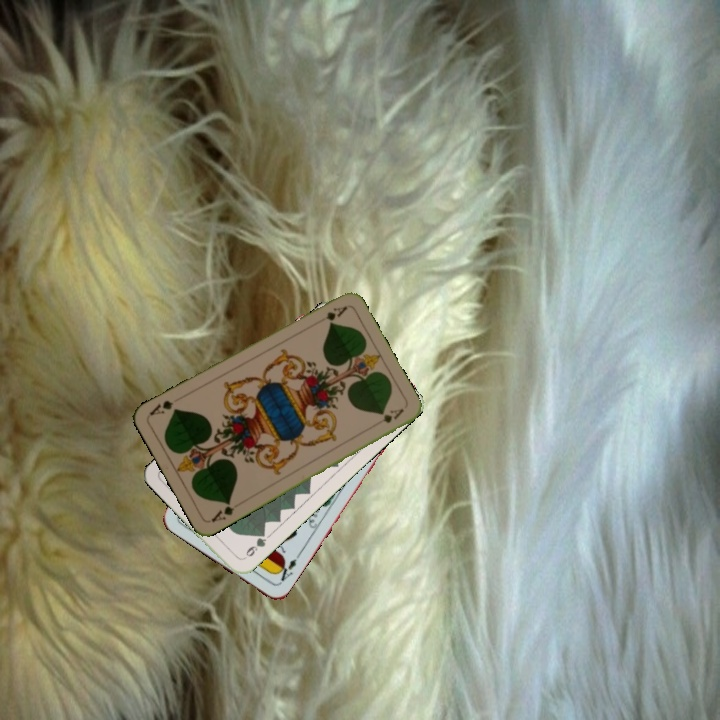EA: (272, 551, 302, 587)
G9: (239, 527, 269, 562)
GA: (312, 302, 350, 327), (207, 497, 237, 525)
